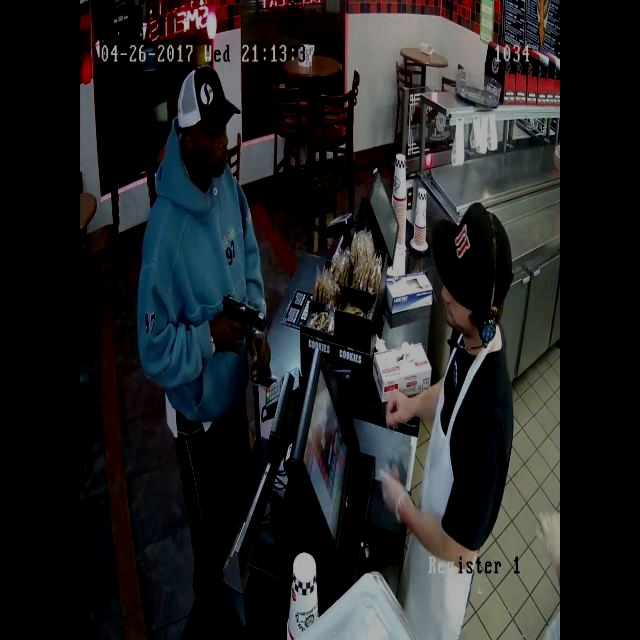gun: (214, 278, 271, 355)
